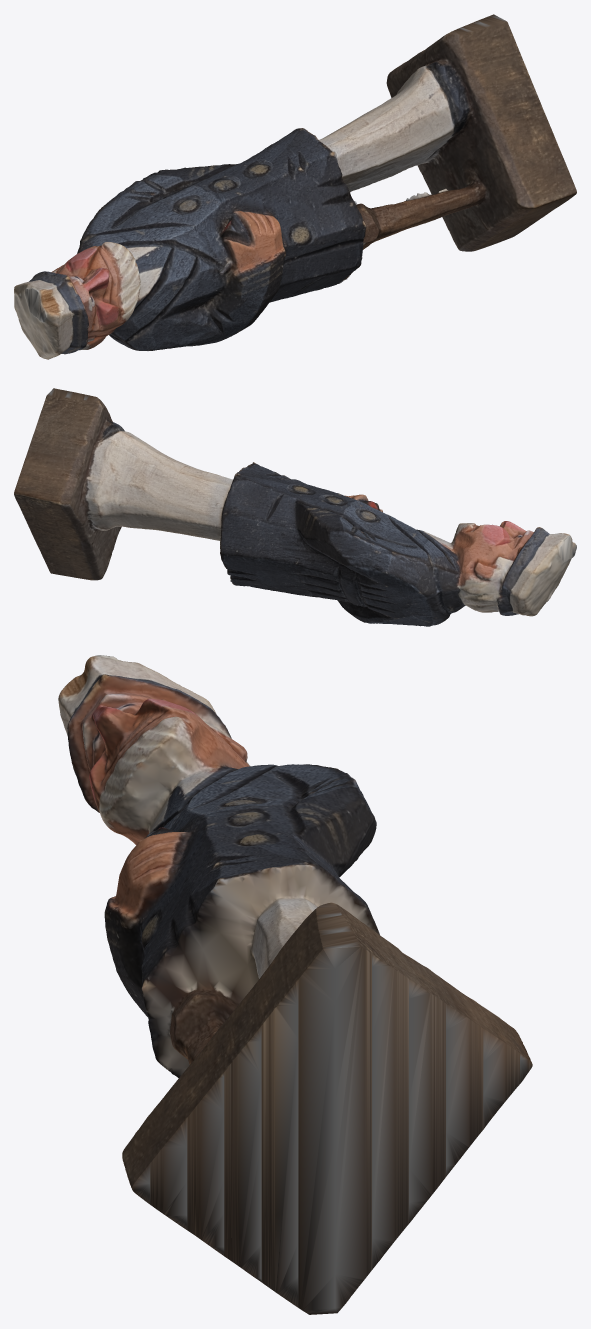
File: first.glb
The picture shows the model from 3 angles, top to bottom: view 1: azimuth 30°, elevation 25°; view 2: azimuth 150°, elevation 25°; view 3: azimuth 270°, elevation 25°; orthographic projection. The views are drawn at different scales.
Visible parts, largest first — view 1: Mesh_0_Part_0; view 2: Mesh_0_Part_0; view 3: Mesh_0_Part_0.
Part boxes in pixels (<box>): Mesh_0_Part_0: <box>14,14,576,359</box>; Mesh_0_Part_0: <box>14,388,576,626</box>; Mesh_0_Part_0: <box>58,655,532,1314</box>.
Bounding box in the file's own units: 0.7108 × 0.2631 × 0.3098.
